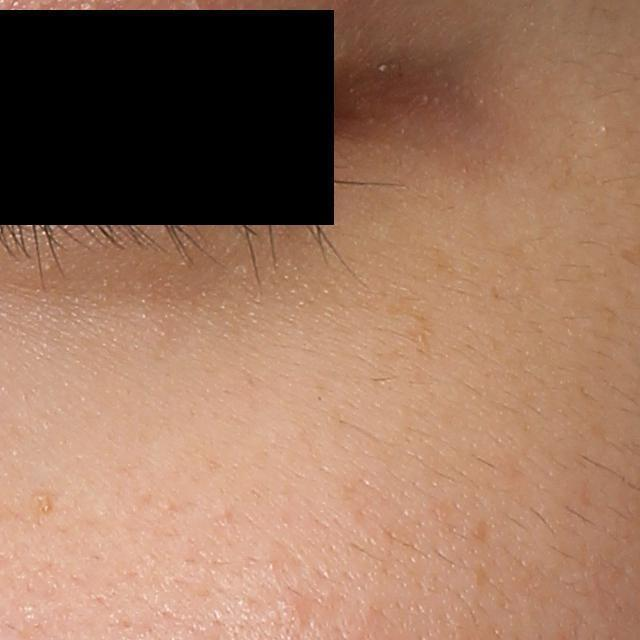melasma: (381, 286, 438, 358)
